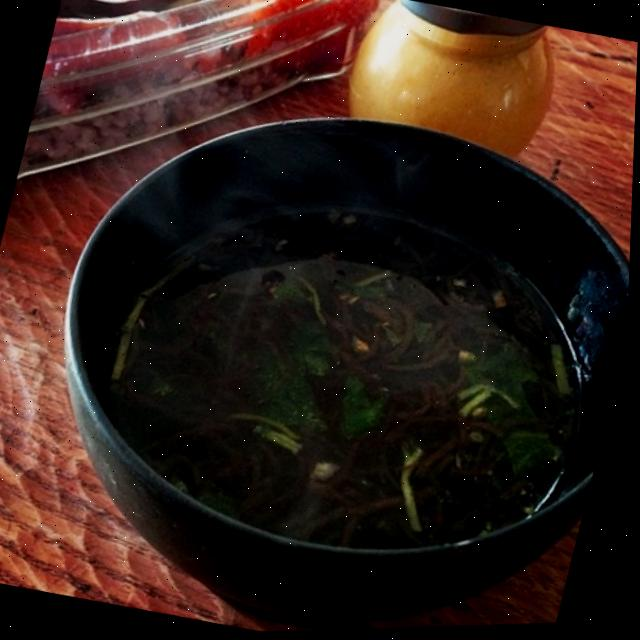汤锅炖物: (23, 115, 636, 632)
